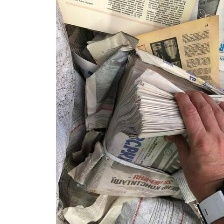news_paper: (76, 50, 224, 200), (131, 13, 224, 89), (55, 0, 189, 44)
